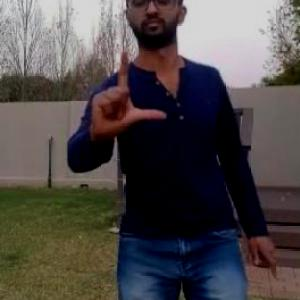land_hand: (86, 46, 170, 146)
